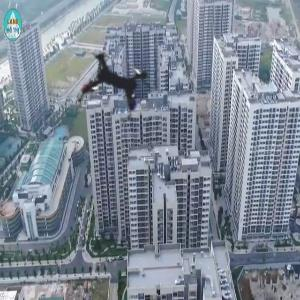drone: (47, 13, 193, 159)
